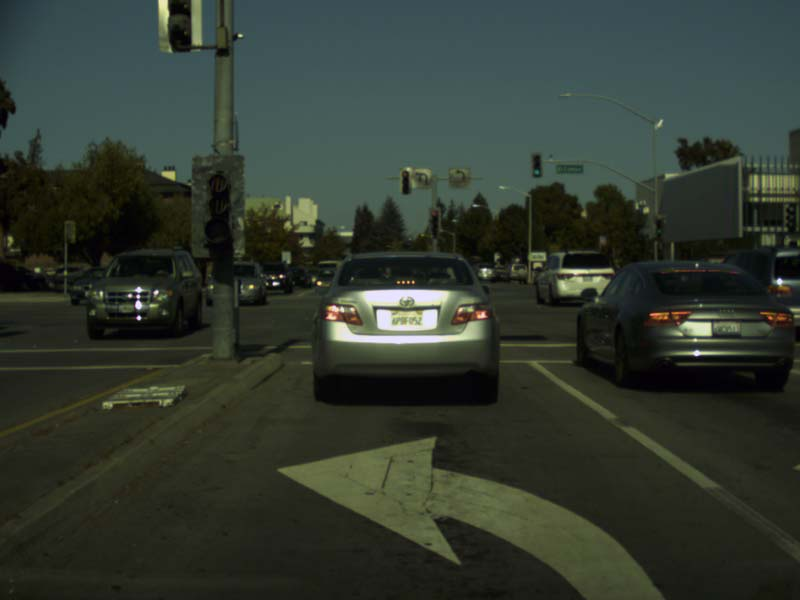Green: (533, 156, 540, 175), (655, 220, 661, 236)
Red: (401, 171, 410, 194), (431, 211, 437, 233)
